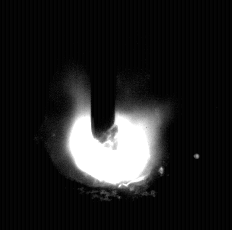arame: (92, 0, 116, 144)
poca: (46, 0, 162, 230)
